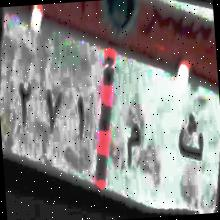1: (71, 91, 95, 151)
2: (12, 73, 40, 146)
7: (41, 84, 69, 152)
meem: (119, 108, 147, 184)
thaa: (172, 105, 212, 174)
